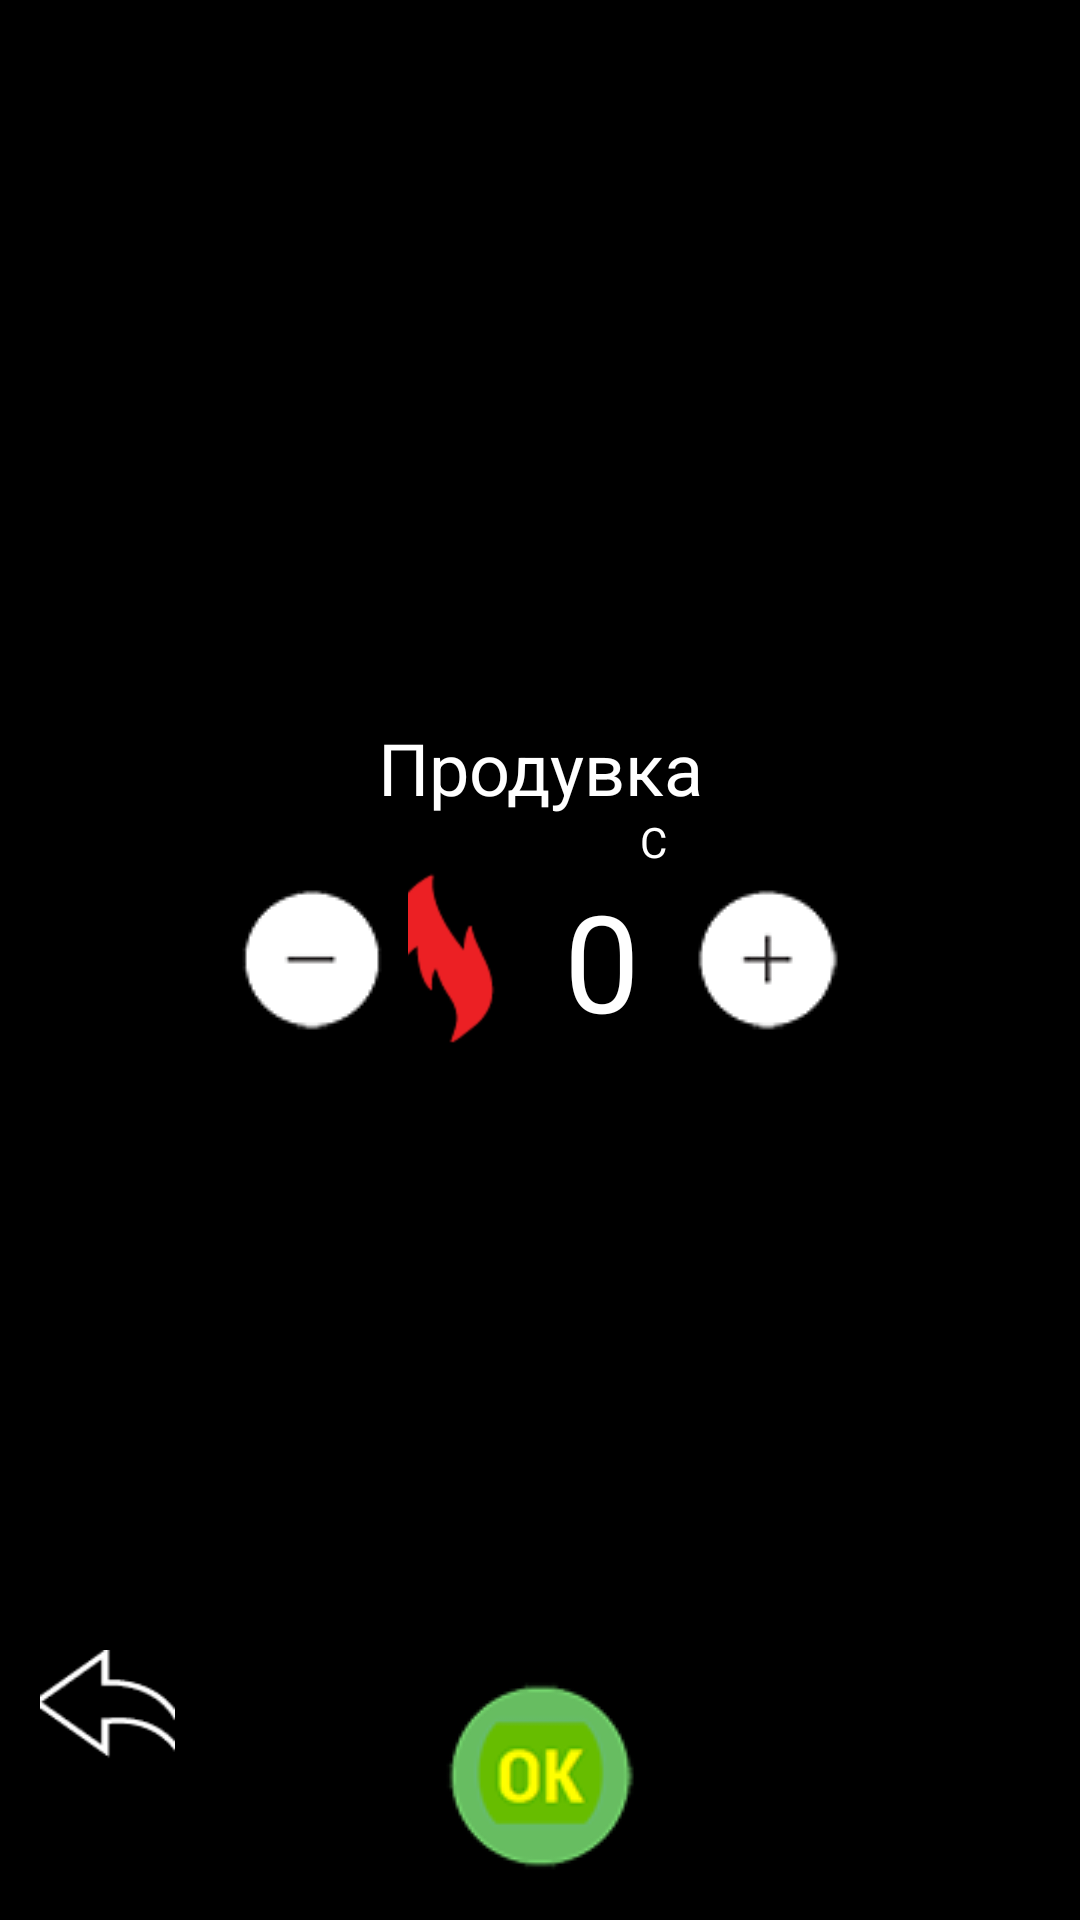

Where to tap for icons on this 1080×1920 app screen, as (x,y):
back: (107,1704)
burn: (451,958)
minus: (311,960)
pluse: (768,960)
